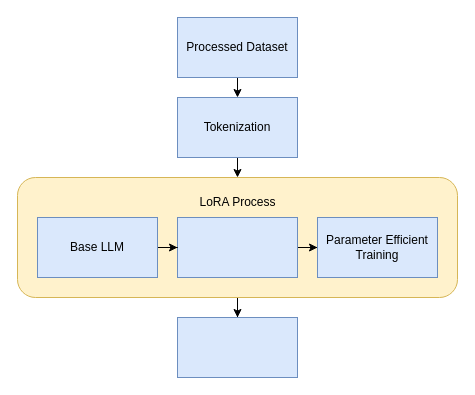
Image size: 475x395. Some labels were removed from this diagram. The shapes that lost their labels are listed below. From the top down, each one's centre as x and y in pixels, then its label:
(x=237, y=247): Low-Rank Matrices
(x=237, y=347): Fine-tuned model
